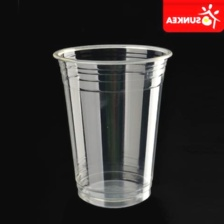glass: (45, 41, 175, 213)
